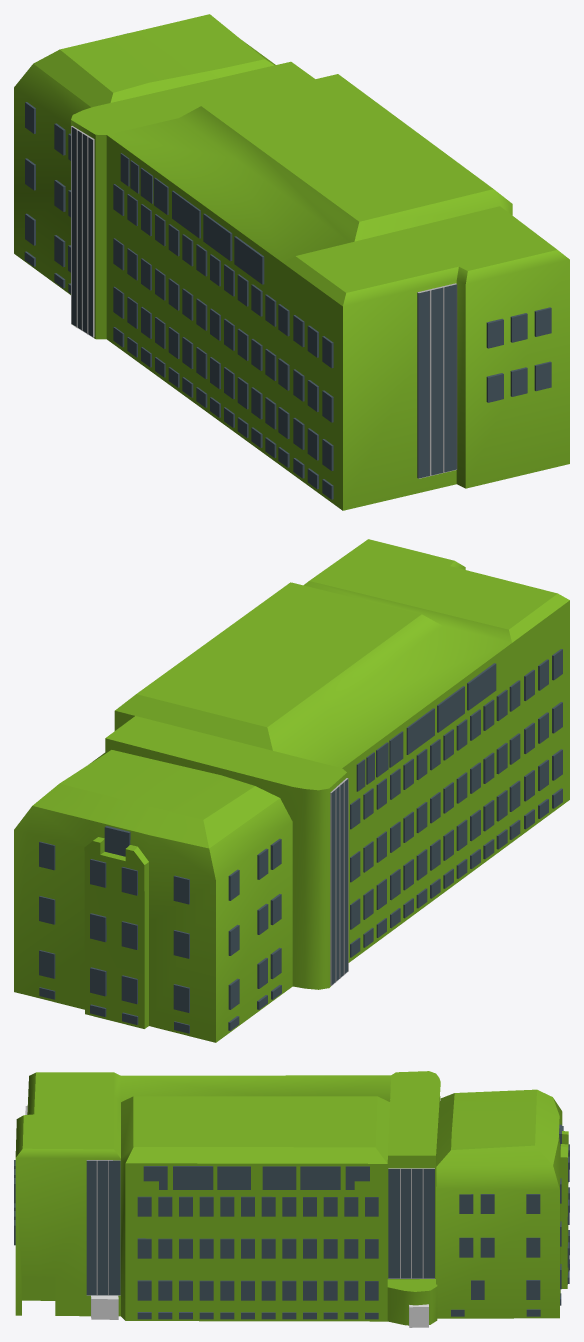
The picture shows the model from 3 angles, top to bottom: view 1: azimuth 30°, elevation 25°; view 2: azimuth 150°, elevation 25°; view 3: azimuth 270°, elevation 25°; orthographic projection. The views are drawn at different scales.
Visible parts, largest first — view 1: A12; view 2: A12; view 3: A12, Entrance.1, Entrance.
Boxes of the visible parts, bbox=[...] form: A12: bbox=[14, 14, 569, 510]; A12: bbox=[14, 539, 569, 1042]; A12: bbox=[14, 1071, 569, 1325]; Entrance.1: bbox=[91, 1295, 118, 1319]; Entrance: bbox=[409, 1304, 428, 1327].
Bounding box in the file's own units: 20.44 × 16.14 × 48.14.
